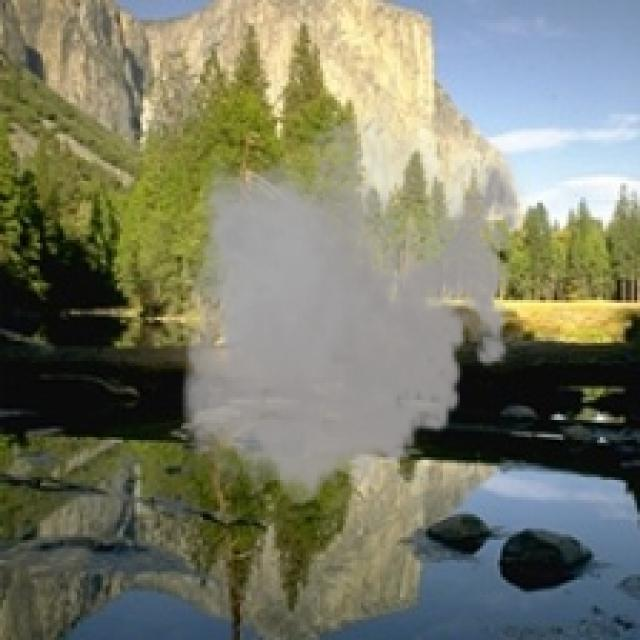smoke: (168, 94, 532, 520)
